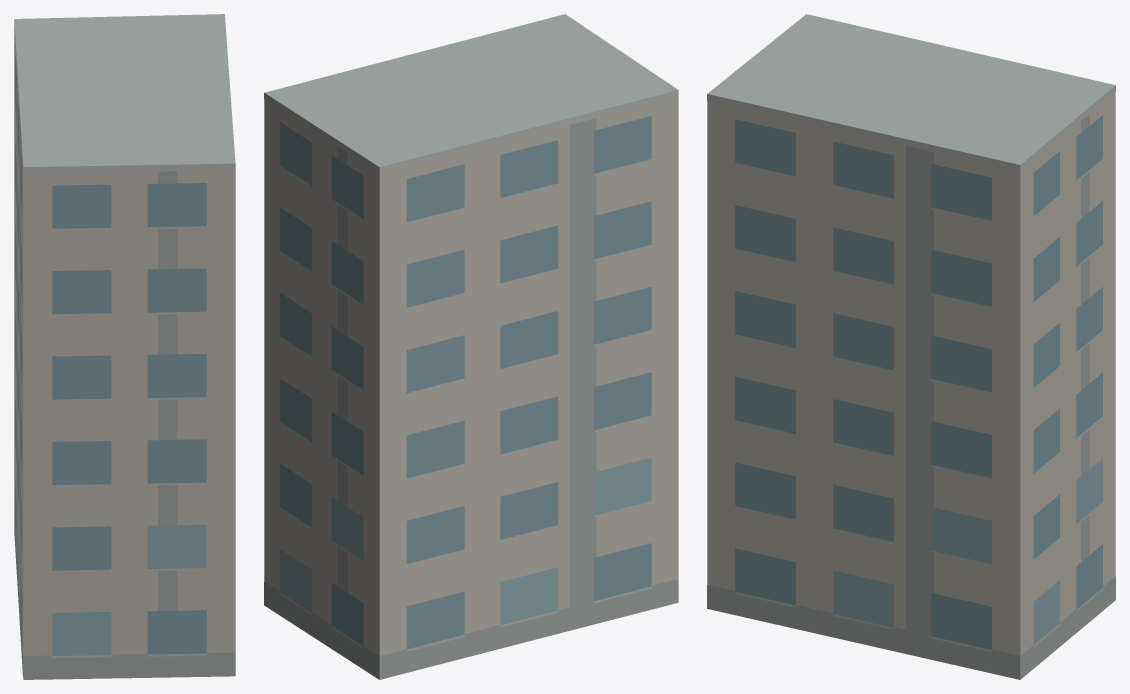
File: survey-upis-32679204.glb
3 views of the same model, side by side, from view 1: azimuth 30°, elevation 25°; view 2: azimuth 150°, elevation 25°; view 3: azimuth 270°, elevation 25° (orthographic).
Parts seen in each view (by area): view 1: survey-upis-32679204.tmp; view 2: survey-upis-32679204.tmp; view 3: survey-upis-32679204.tmp.
Part boxes in pixels (x1,y1,x2,y2): survey-upis-32679204.tmp: (14, 14, 235, 679); survey-upis-32679204.tmp: (264, 14, 678, 679); survey-upis-32679204.tmp: (707, 14, 1115, 679).
Bounding box in the file's own units: 11.51 × 18.3 × 13.17.
